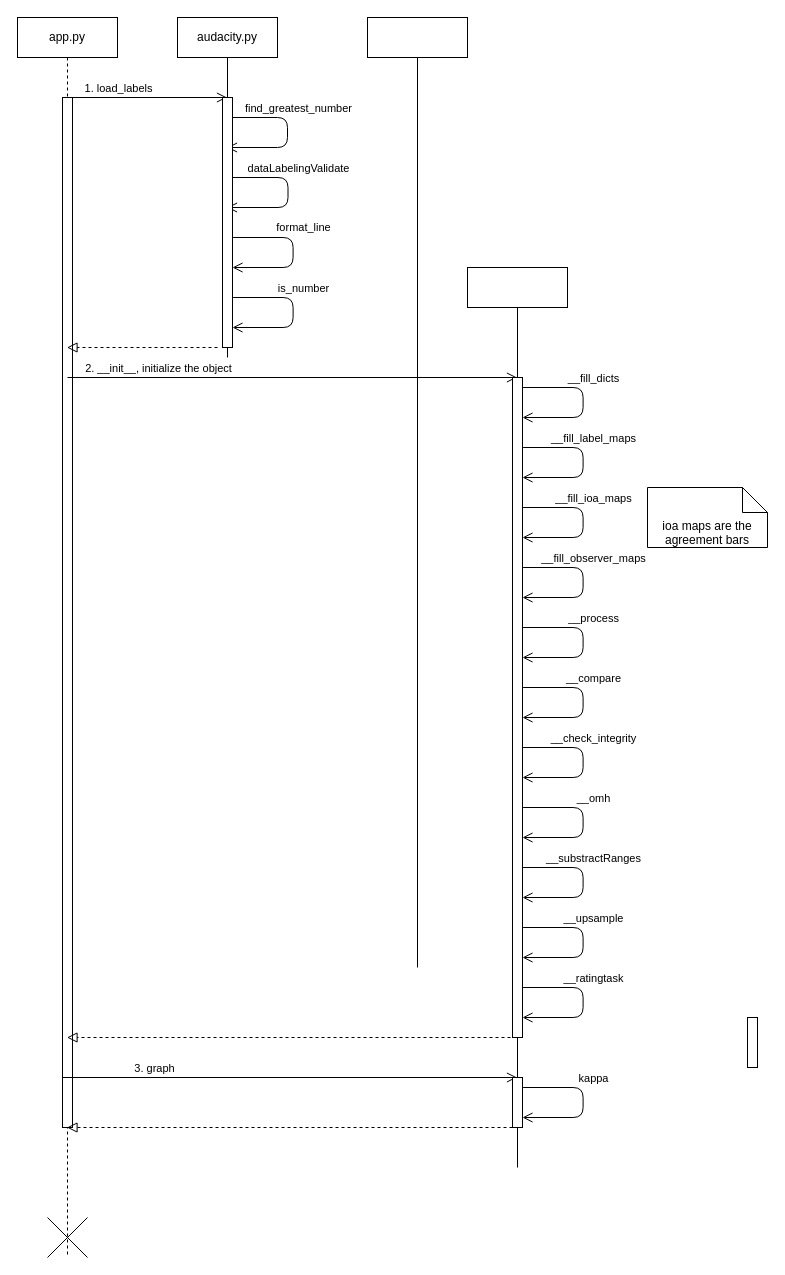
Some shapes in this 785 by 1275 pixel diagram are drawn without their labels. The box of each missing label's shape, as (x1, y1, x2, y2) in pixels:
Deadshot: (466, 266, 568, 1168)
measures.py: (366, 16, 468, 968)
